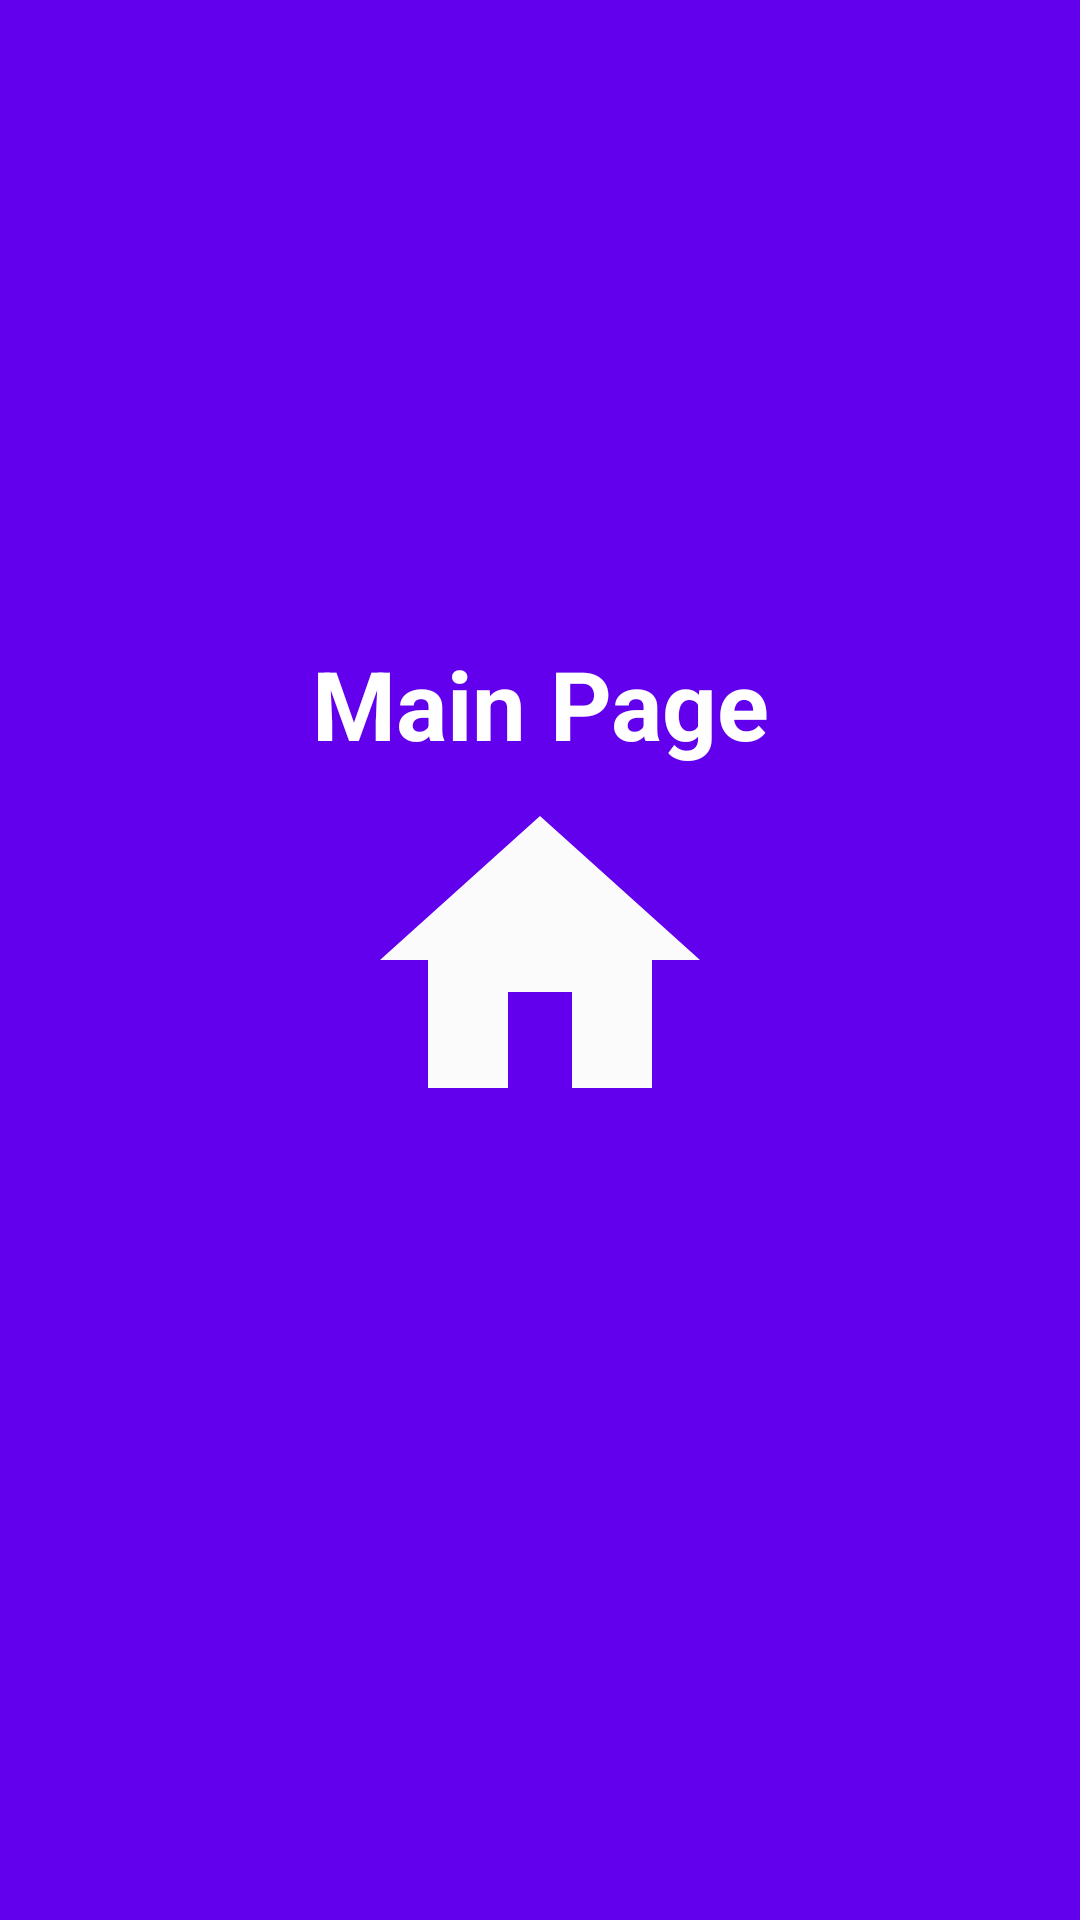

Icon click points for this 1080 × 1920 phone screenshot, format [x,y]:
home: [540,952]
